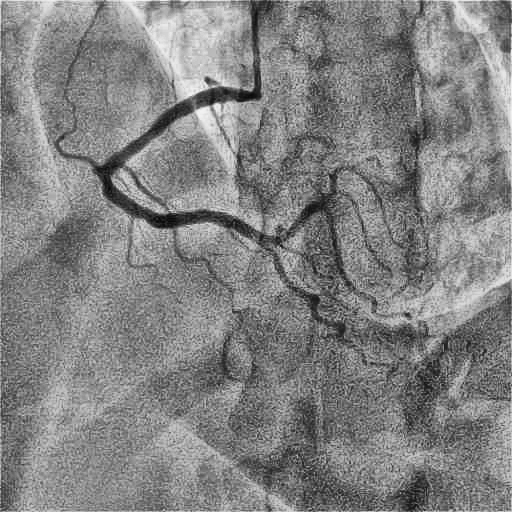pborca: (271, 202, 412, 319)
pda: (269, 250, 389, 366)
rca: (98, 86, 268, 247)
